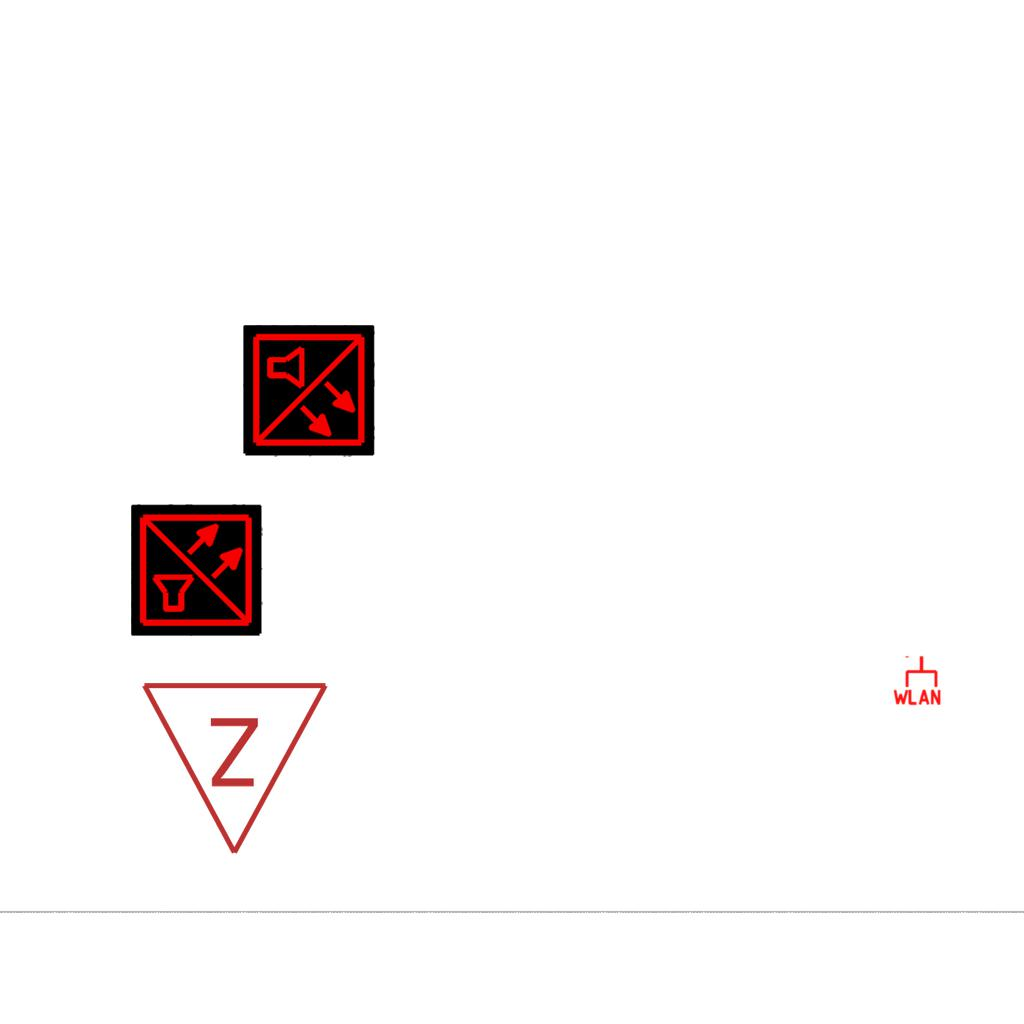OKW_Multisensormelder_(Kombination_optischer_Rauch-Kahlenmonoxid_Waerme-Melder): (131, 504, 263, 636), (243, 325, 375, 457)
WLAN: (891, 654, 943, 706)
Zimmersignalleuchte: (139, 668, 335, 868)
